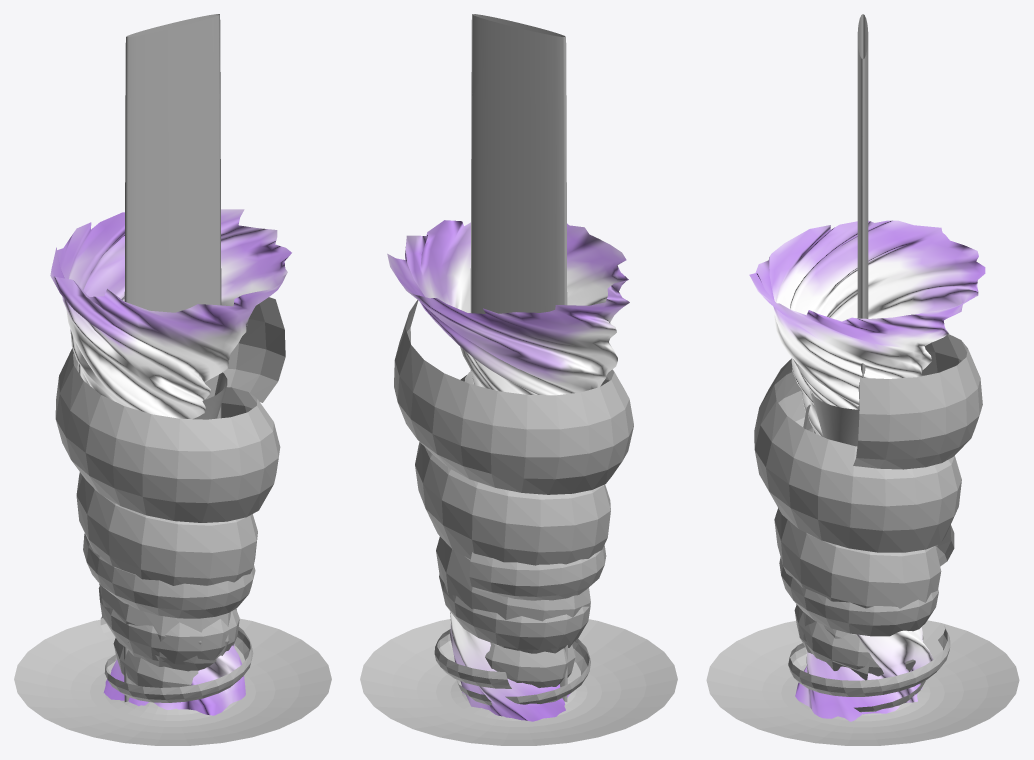
Rendered from pref_fx_returnhome_01_003802_lv3.fbx.
3 views of the same model, side by side, from view 1: azimuth 30°, elevation 25°; view 2: azimuth 150°, elevation 25°; view 3: azimuth 270°, elevation 25° (orthographic).
Visible parts, largest first — view 1: sm_wind_blue_chong_02, sm_wind_zhu_chong_add, sm_cylinder_violet, sm_kuosan_blue_chong, sm_wind_blue, sm_wind_violet_blend, sm_wind_blue_chong_01; view 2: sm_wind_blue_chong_02, sm_cylinder_violet, sm_wind_zhu_chong_add, sm_kuosan_blue_chong, sm_wind_blue, sm_wind_violet_blend; view 3: sm_wind_blue_chong_02, sm_wind_zhu_chong_add, sm_kuosan_blue_chong, sm_wind_blue, sm_cylinder_violet, sm_wind_violet_blend, sm_wind_blue_chong_01.
Part boxes in pixels (x1=…): sm_wind_blue_chong_02: x1=55, y1=297, x2=285, y2=671; sm_wind_zhu_chong_add: x1=50, y1=209, x2=291, y2=715; sm_cylinder_violet: x1=124, y1=14, x2=221, y2=701; sm_kuosan_blue_chong: x1=14, y1=618, x2=331, y2=745; sm_wind_blue: x1=83, y1=533, x2=255, y2=687; sm_wind_violet_blend: x1=100, y1=616, x2=253, y2=702; sm_wind_blue_chong_01: x1=193, y1=372, x2=227, y2=419; sm_wind_blue_chong_02: x1=394, y1=300, x2=633, y2=653; sm_cylinder_violet: x1=470, y1=14, x2=567, y2=701; sm_wind_zhu_chong_add: x1=387, y1=220, x2=629, y2=721; sm_kuosan_blue_chong: x1=360, y1=619, x2=677, y2=745; sm_wind_blue: x1=439, y1=545, x2=606, y2=687; sm_wind_violet_blend: x1=434, y1=629, x2=590, y2=705; sm_wind_blue_chong_02: x1=754, y1=334, x2=982, y2=680; sm_wind_zhu_chong_add: x1=749, y1=220, x2=985, y2=721; sm_kuosan_blue_chong: x1=706, y1=620, x2=1019, y2=745; sm_wind_blue: x1=779, y1=525, x2=954, y2=676; sm_cylinder_violet: x1=857, y1=14, x2=868, y2=409; sm_wind_violet_blend: x1=788, y1=626, x2=950, y2=712; sm_wind_blue_chong_01: x1=809, y1=389, x2=859, y2=446.
Bounding box in the file's own units: 7.12 × 17.21 × 7.16.
